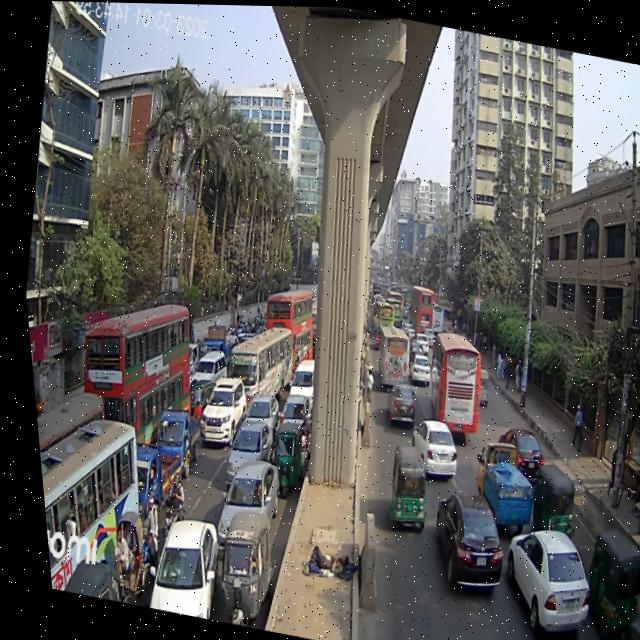cng: (556, 505, 640, 638), (508, 444, 579, 556), (370, 434, 432, 537), (250, 404, 306, 497), (177, 373, 210, 426)
